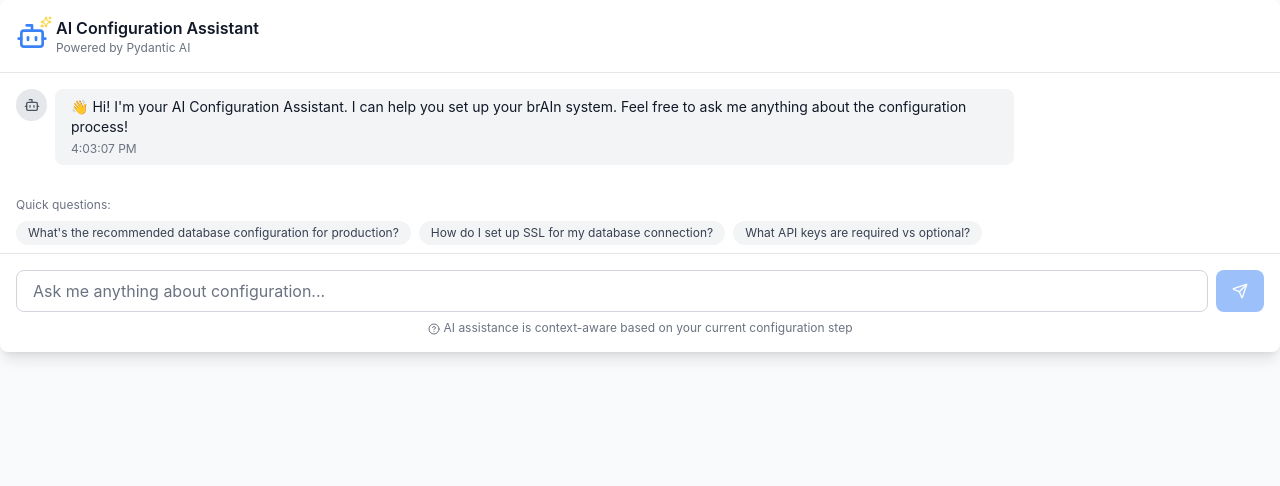
ConfigAssistant › AI Response Generation › should provide context-aware responses
Type "What about SSL?" into the field with placeholder "Ask me anything about configuration...".
click(612, 291); type("What about SSL?")  # box [16, 270, 1208, 312]
Then press Enter
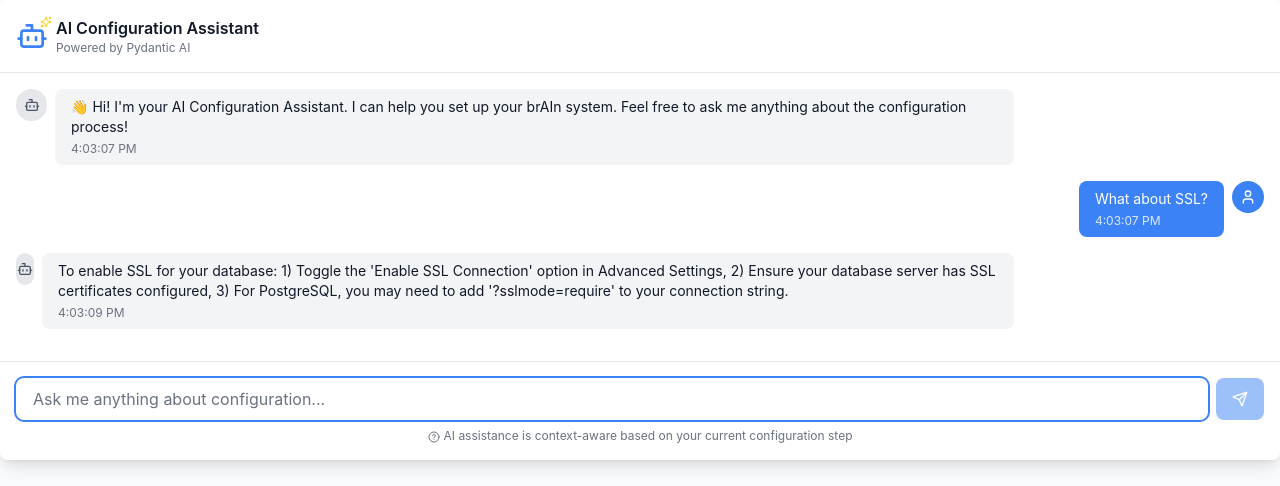
expect the text "Enable SSL Connection" is shown: met, box [58, 262, 1000, 299]
